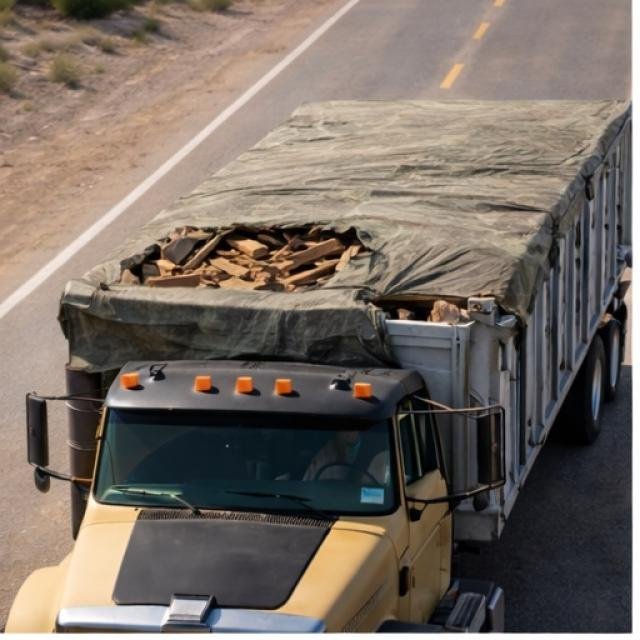Box: (65, 98, 629, 312)
Truck: (10, 89, 626, 627)
